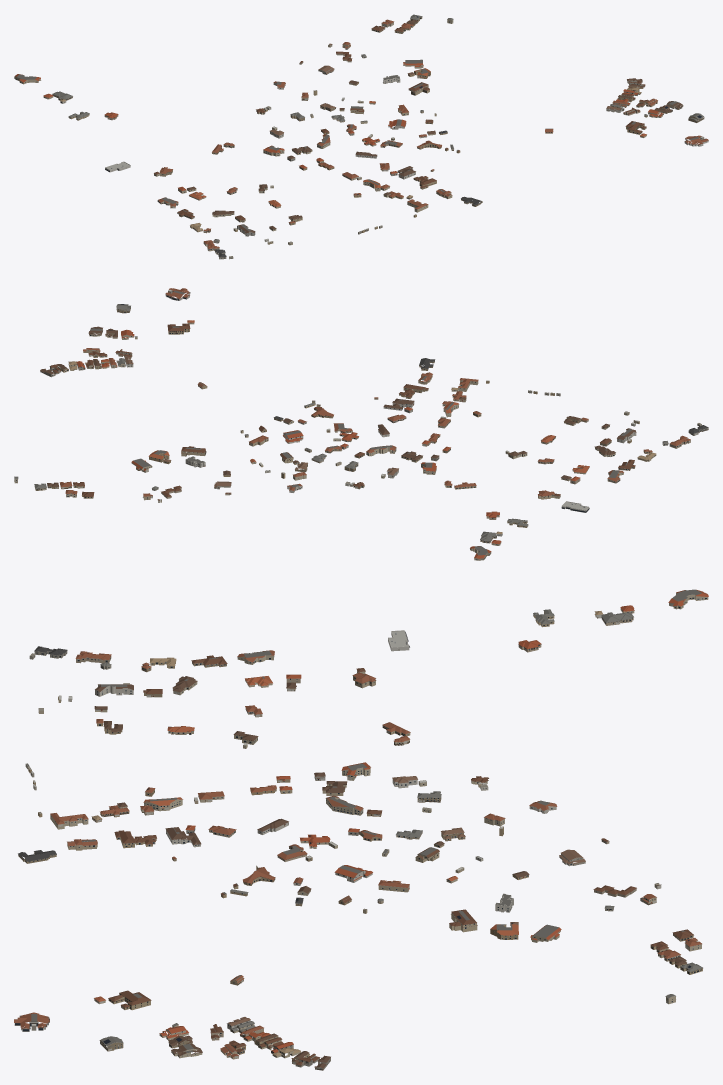
3 views of the same model, one above another, from view 1: azimuth 30°, elevation 25°; view 2: azimuth 150°, elevation 25°; view 3: azimuth 270°, elevation 25° (orthographic). The views are drawn at different scales.
Visible parts, largest first — view 1: buildings_r1_c0_lod0; view 2: buildings_r1_c0_lod0; view 3: buildings_r1_c0_lod0.
Part boxes in pixels (<box>): buildings_r1_c0_lod0: <box>14,14,708,259</box>; buildings_r1_c0_lod0: <box>14,288,708,560</box>; buildings_r1_c0_lod0: <box>14,589,708,1070</box>.
Bounding box in the file's own units: 1141 × 104 × 819.
